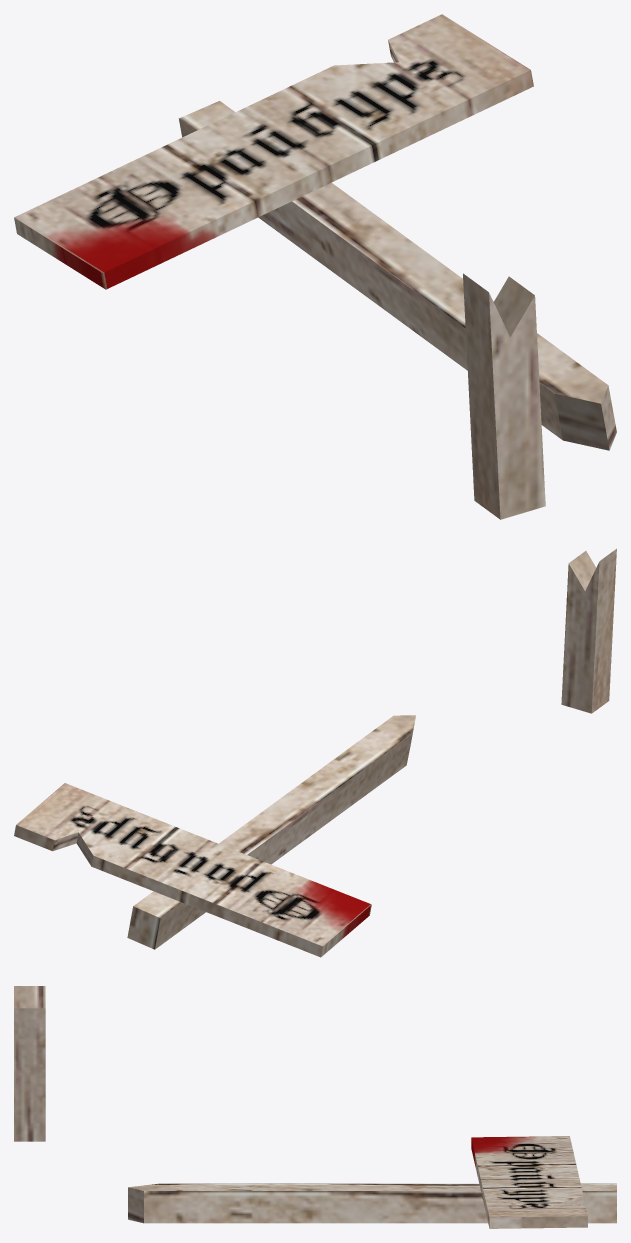
File: frei.obj
3 renders of one model, top to bottom at view 1: azimuth 30°, elevation 25°; view 2: azimuth 150°, elevation 25°; view 3: azimuth 270°, elevation 25°, orthographic. The views are drawn at different scales.
Parts seen in each view (by area): view 1: Mesh2 Model, Mesh1 Model; view 2: Mesh2 Model, Mesh1 Model; view 3: Mesh2 Model, Mesh1 Model.
Part boxes in pixels (x1,y1,x2,y2): Mesh2 Model: (14, 14, 616, 450); Mesh1 Model: (463, 273, 545, 519); Mesh2 Model: (14, 715, 415, 957); Mesh1 Model: (561, 548, 616, 713); Mesh2 Model: (128, 1136, 616, 1228); Mesh1 Model: (14, 986, 45, 1141).
Bounding box in the file's own units: 1874 × 1118 × 3544.
2 materials, 2 textured.
